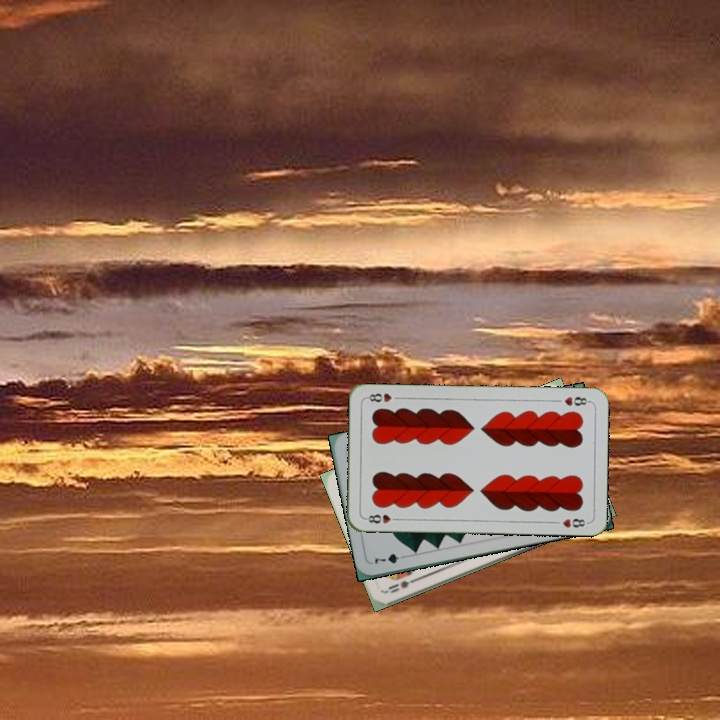G7: (371, 549, 410, 567)
H8: (361, 510, 402, 526), (560, 393, 592, 409)
SO: (382, 574, 421, 596)
